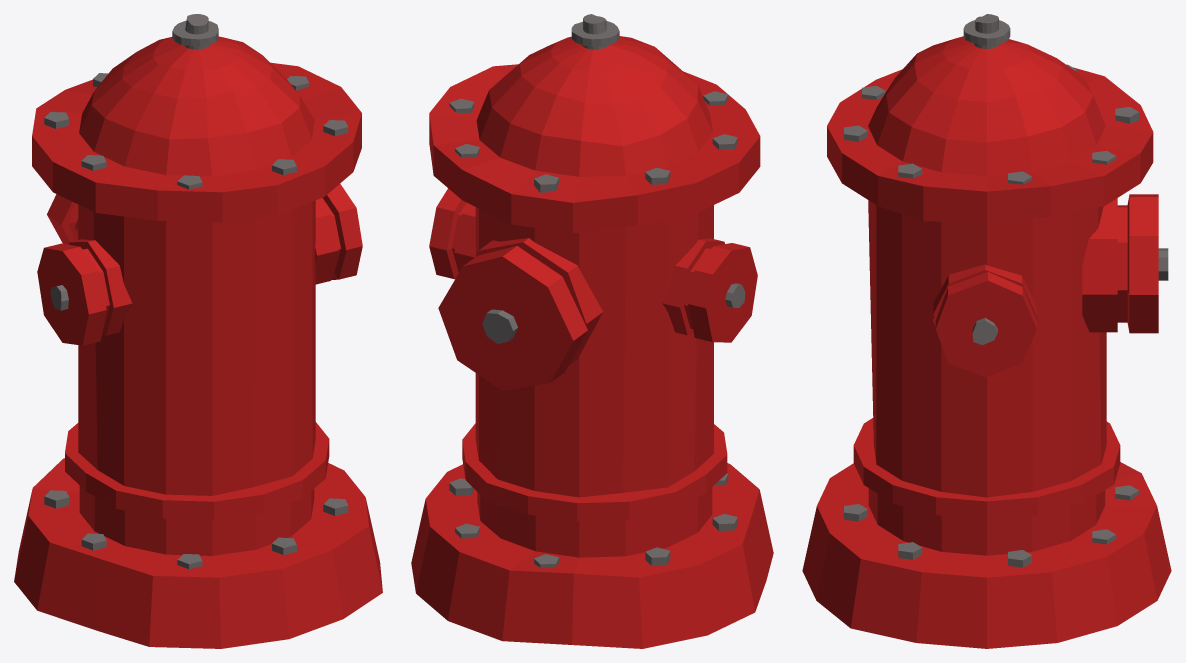
Rendered from Hydrant.fbx.
3 renders of one model, left to right at view 1: azimuth 30°, elevation 25°; view 2: azimuth 150°, elevation 25°; view 3: azimuth 270°, elevation 25°, orthographic.
Parts seen in each view (by area): view 1: Cylinder.1036; view 2: Cylinder.1036; view 3: Cylinder.1036.
Boxes of the visible parts, x1,y1,x2,y2 form: Cylinder.1036: (14,14,382,648); Cylinder.1036: (411,14,773,648); Cylinder.1036: (802,14,1171,648).
Size of the model in its own units: 49 by 80.94 by 49.
Materials: 1 (1 with a texture image).
